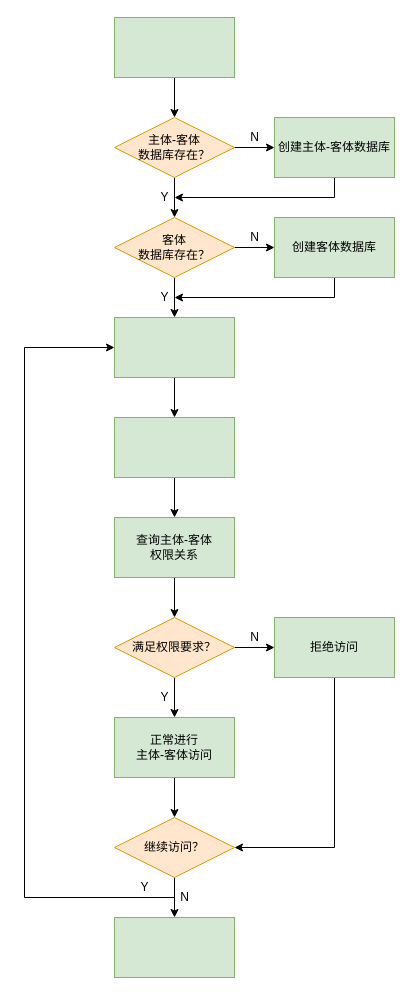
Some shapes in this 412 by 995 pixel diagram are drawn without their labels. The centre of each missing label's shape, as x and y in pixels:
"主体访问客体" belongs at (x=174, y=347).
"关闭数据库" belongs at (x=174, y=947).
"查询客体权限等级" belongs at (x=174, y=447).
"连接数据库" belongs at (x=174, y=47).
